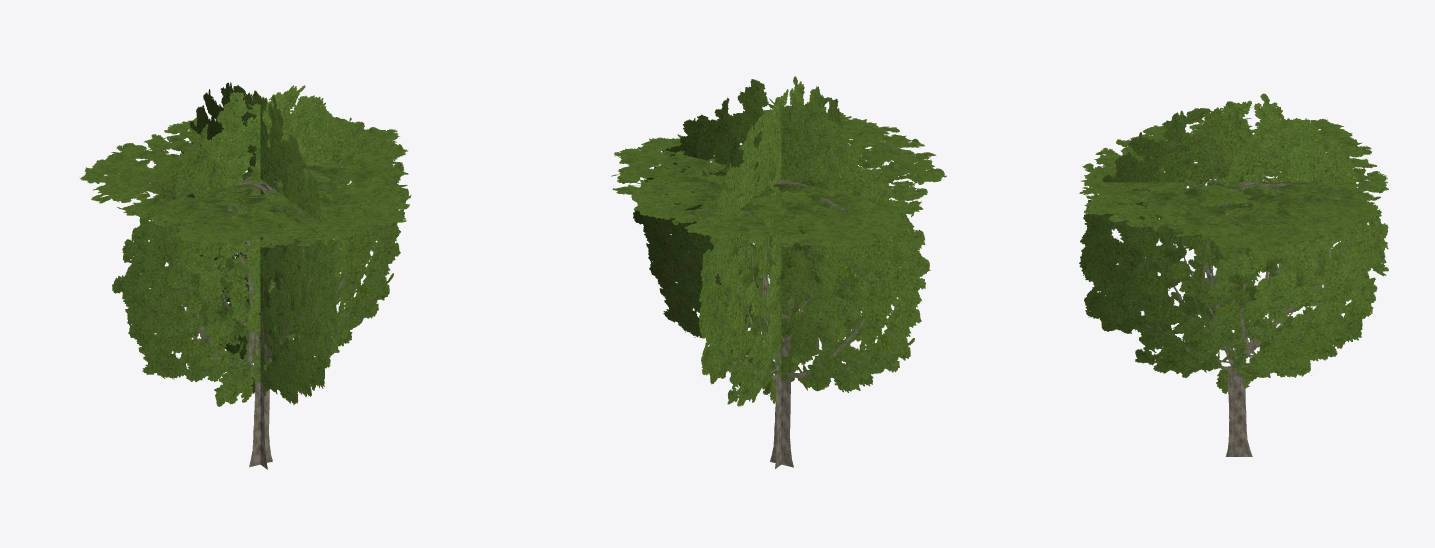
Rendered from arbre_feuillu_rond_lod2.glb.
The picture shows the model from 3 angles, left to right: view 1: azimuth 30°, elevation 25°; view 2: azimuth 150°, elevation 25°; view 3: azimuth 270°, elevation 25°; orthographic projection. The views are drawn at different scales.
Parts seen in each view (by area): view 1: arbre_feuillu_rond_lod2; view 2: arbre_feuillu_rond_lod2; view 3: arbre_feuillu_rond_lod2.
Part boxes in pixels (x1,y1,x2,y2): arbre_feuillu_rond_lod2: [79, 82, 411, 469]; arbre_feuillu_rond_lod2: [611, 76, 946, 468]; arbre_feuillu_rond_lod2: [1079, 93, 1388, 456].
Bounding box in the file's own units: 10.08 × 11.19 × 10.08.
1 material, 1 textured.
